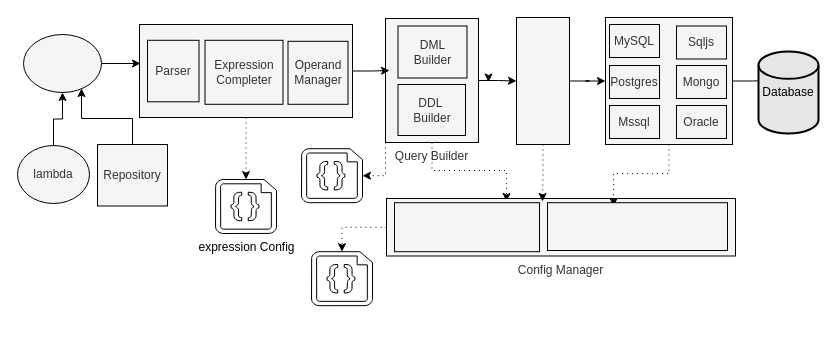
This 837x344 diagram has some shape labels left out. Each missing label, with the box of its shape:
Connection Manager: (604, 16, 732, 144)
Database Config Manager: (394, 202, 540, 252)
Dialect Config: (300, 148, 362, 203)
Expression: (22, 34, 102, 92)
Expression Manager: (138, 24, 352, 118)
Query Executor: (516, 16, 570, 144)
Schema Config: (310, 251, 372, 306)
Schema Config Manager: (546, 202, 728, 250)
